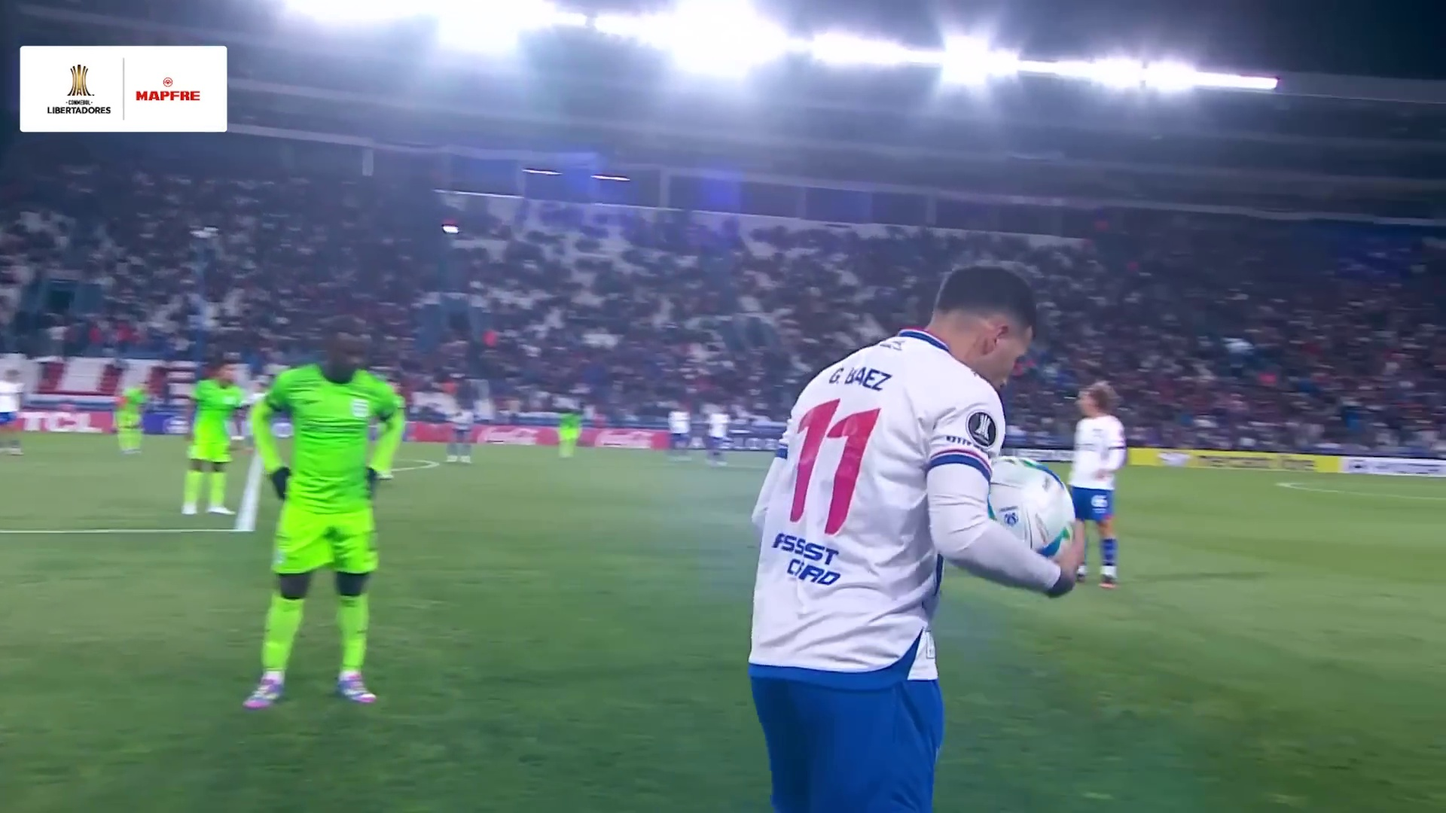ball: (972, 453, 1079, 567)
player: (748, 254, 1081, 813), (229, 321, 411, 720), (1058, 380, 1140, 594), (173, 359, 251, 524), (353, 369, 416, 481), (114, 378, 153, 460), (656, 403, 697, 464), (2, 368, 25, 456), (442, 407, 472, 468), (554, 409, 587, 462), (707, 407, 733, 467)
